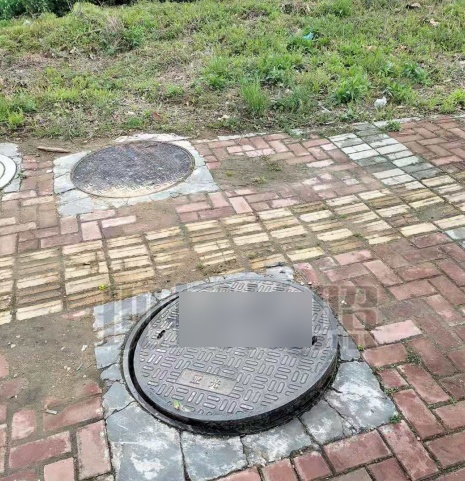good: (70, 141, 195, 197)
uncovered: (122, 277, 342, 437)
